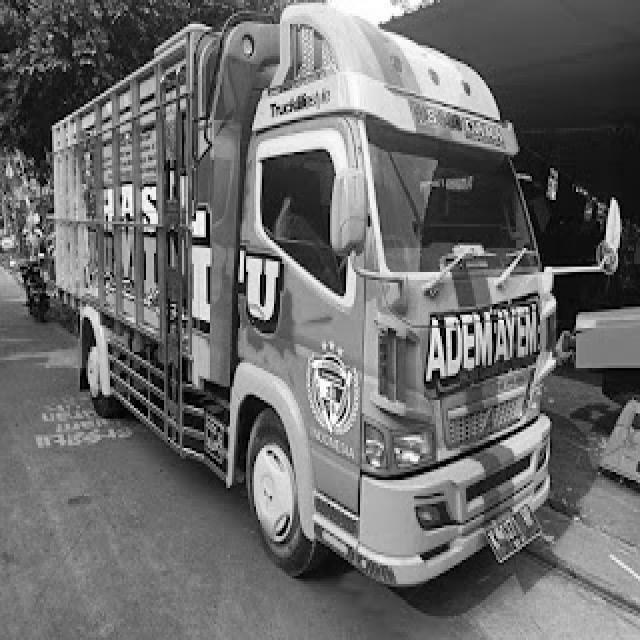truck: (201, 1, 621, 590)
